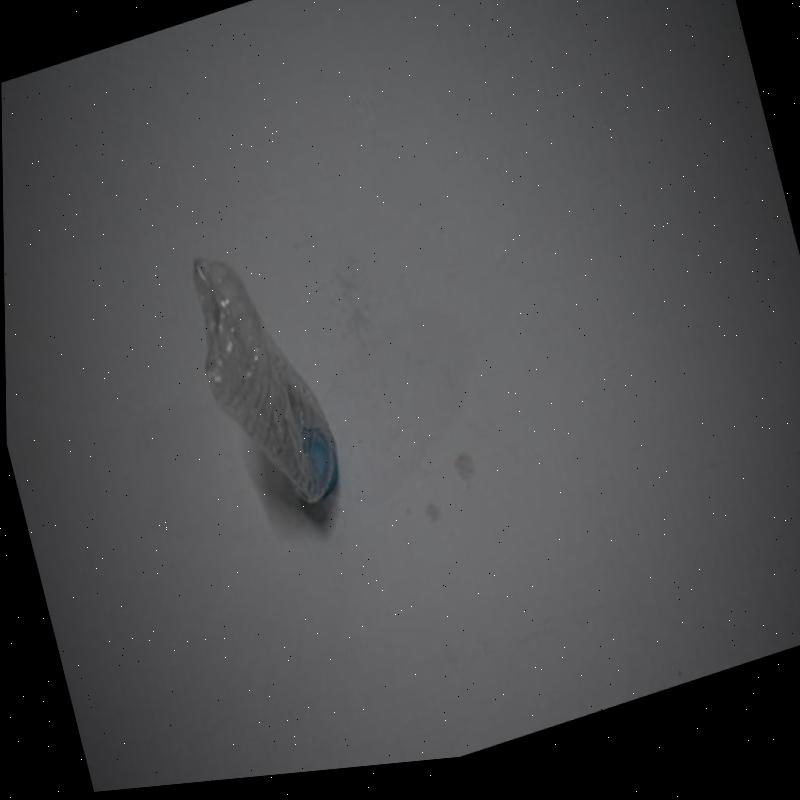botella: (176, 230, 348, 537)
